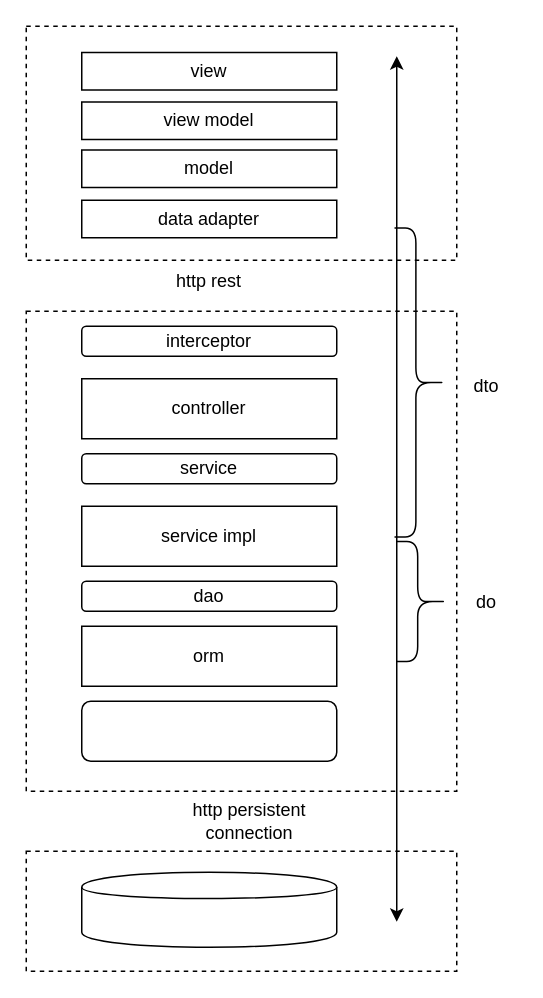
The diagram is 543 pixels wide and 998 high, and some of its shapes have lost their labels. The box of each missing label's shape, as (x1, y1, x2, y2) in pixels:
db: (80, 871, 337, 947)
jdbc pool: (80, 700, 337, 761)
